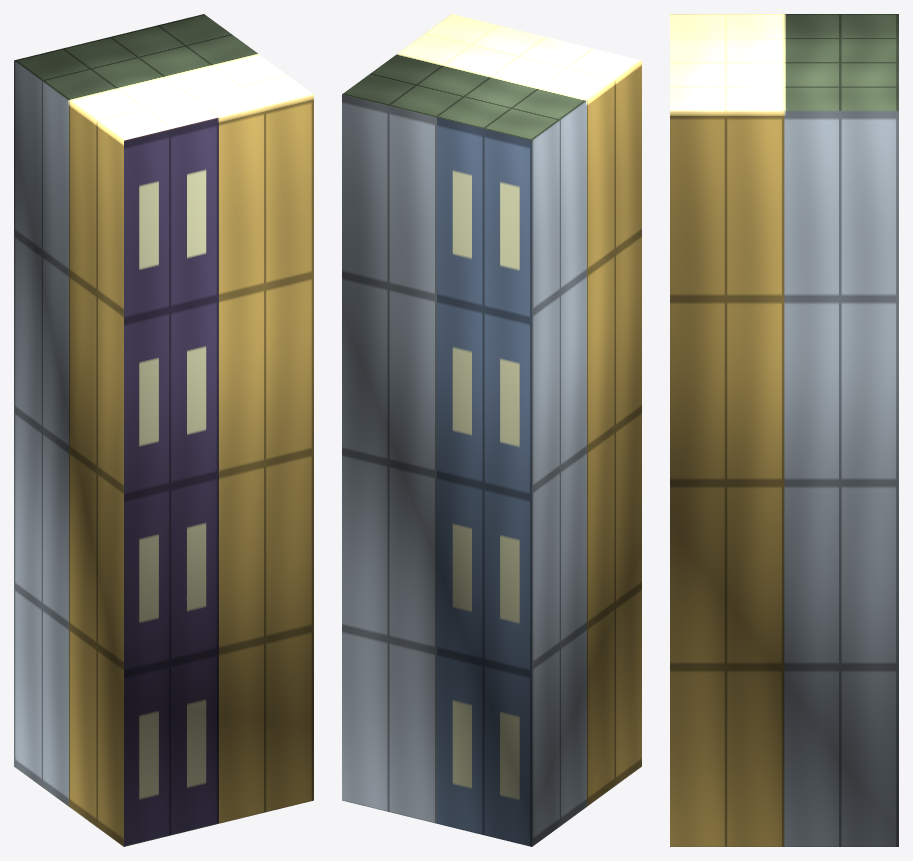
The model's file is building_d.glb.
3 views of the same model, side by side, from view 1: azimuth 30°, elevation 25°; view 2: azimuth 150°, elevation 25°; view 3: azimuth 270°, elevation 25° (orthographic). The views are drawn at different scales.
Parts seen in each view (by area): view 1: col; view 2: col; view 3: col.
Boxes of the visible parts, box(x1,y1,x2,y2) form: col: box(14, 14, 313, 846); col: box(342, 14, 641, 846); col: box(670, 14, 898, 846).
Size of what is drawn, in the model's own units: 4.19 by 14.9 by 4.19.
1 material, 1 textured.
